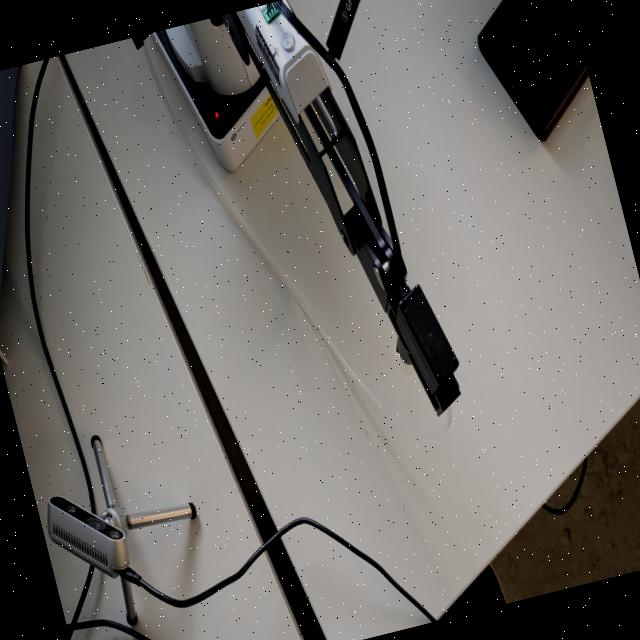Robot-end-effector-HF8z: (377, 276, 473, 426)
